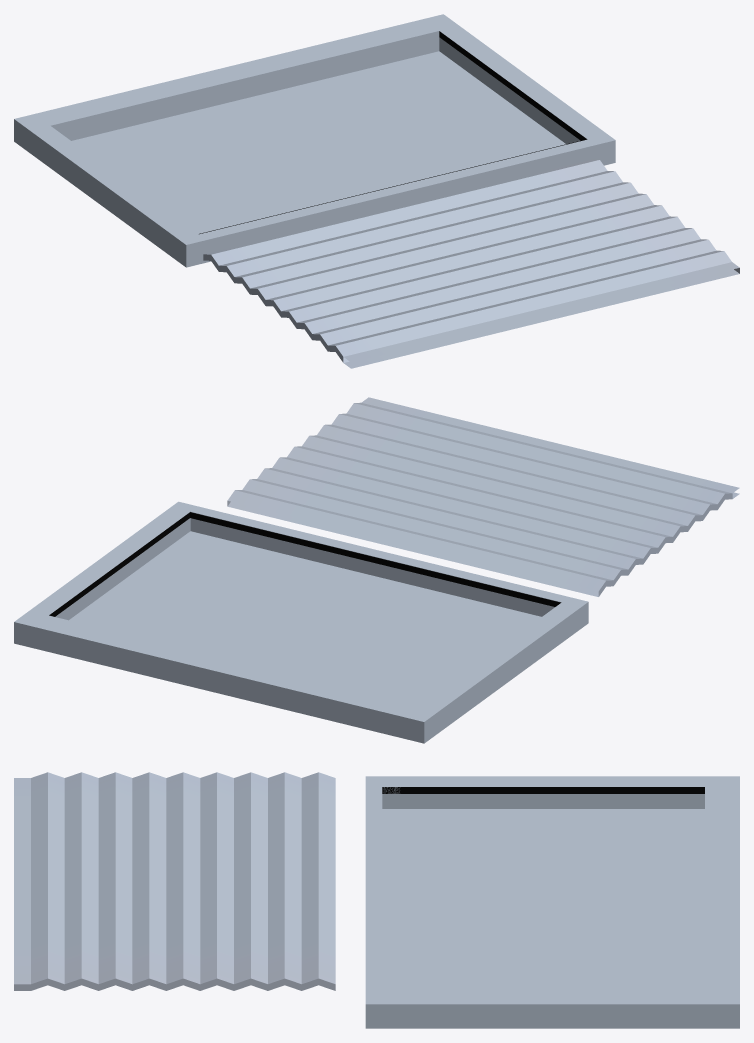
The model's file is Cards_Holder.fbx.
3 renders of one model, top to bottom at view 1: azimuth 30°, elevation 25°; view 2: azimuth 150°, elevation 25°; view 3: azimuth 270°, elevation 25°, orthographic. The views are drawn at different scales.
Visible parts, largest first — view 1: Cube, Cube.001; view 2: Cube, Cube.001; view 3: Cube, Cube.001.
Boxes of the visible parts, x1,y1,x2,y2 form: Cube: (14,14,615,267); Cube.001: (203,159,739,368); Cube: (14,501,588,743); Cube.001: (227,397,739,596); Cube: (365,776,739,1028); Cube.001: (14,772,335,990).
Size of the model in its own units: 416 by 25.82 by 560.
